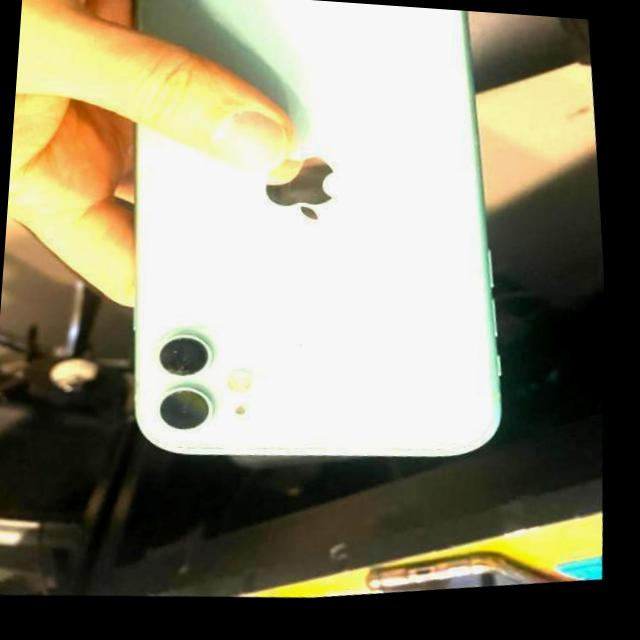lens_back: (154, 382, 216, 434), (155, 329, 214, 379)
phone: (102, 0, 535, 478)
